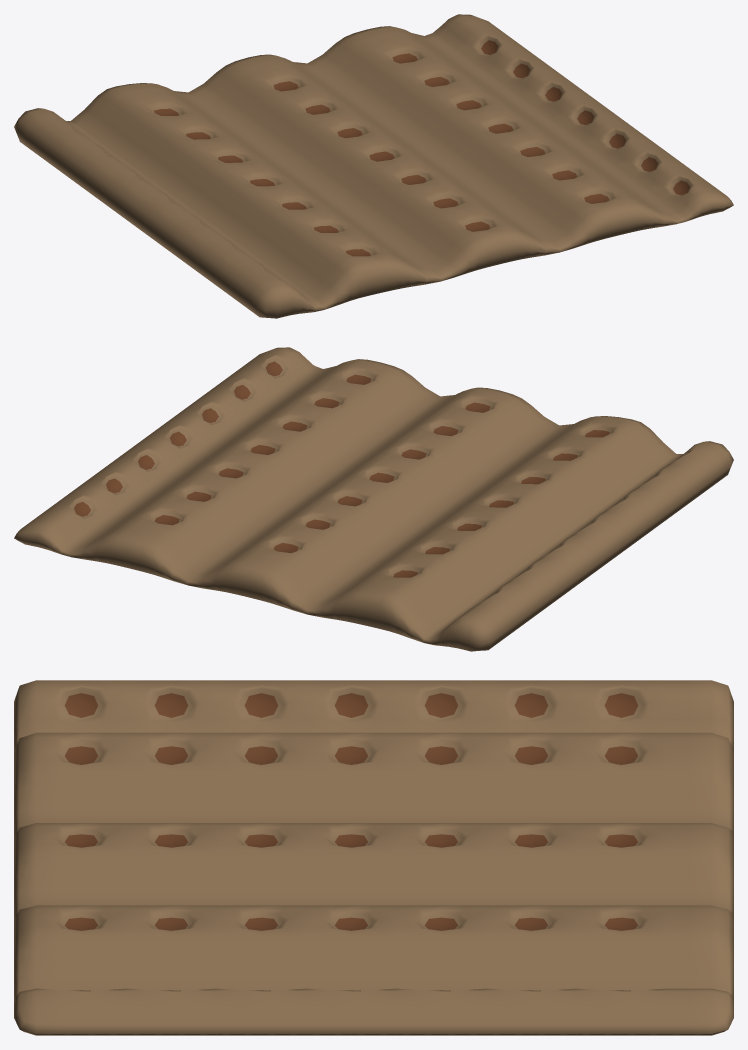
Rendered from Feeld_1.5.fbx.
3 renders of one model, top to bottom at view 1: azimuth 30°, elevation 25°; view 2: azimuth 150°, elevation 25°; view 3: azimuth 270°, elevation 25°, orthographic. The views are drawn at different scales.
Visible parts, largest first — view 1: one_and_a_half; view 2: one_and_a_half; view 3: one_and_a_half.
Boxes of the visible parts, bbox=[...] form: one_and_a_half: bbox=[14, 14, 733, 318]; one_and_a_half: bbox=[14, 347, 733, 651]; one_and_a_half: bbox=[14, 680, 733, 1035].
Size of the model in its own units: 4325 by 294 by 4026.
